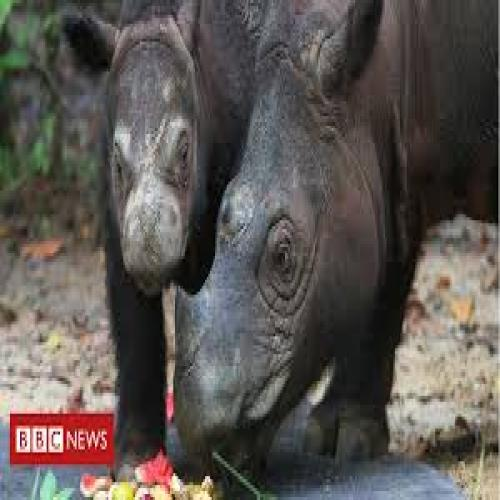rhino-endangered: (173, 0, 500, 473), (63, 0, 259, 466)
